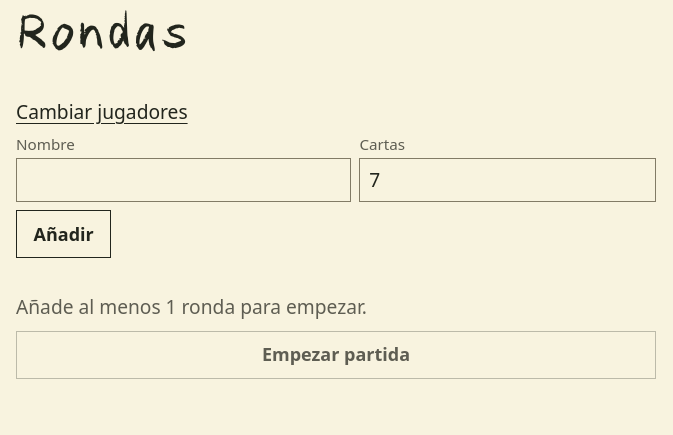
Test: RoundSetup › rejects blank, zero-card, and non-integer rounds before adding a valid round
Submit the form, box x1=16 y1=134 x2=656 y2=258
Type "Nueva ronda" into the field labelled "Nombre" at (184, 180), box x1=16 y1=158 x2=351 y2=202
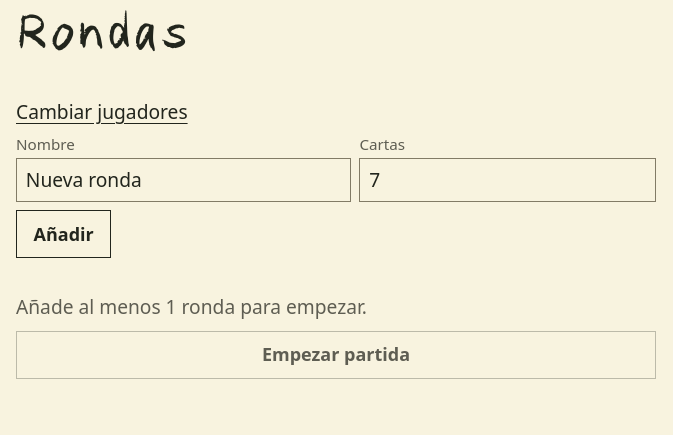
Replace the text in the number field labelled "Cartas" with "0" at (508, 180), box x1=359 y1=158 x2=656 y2=202
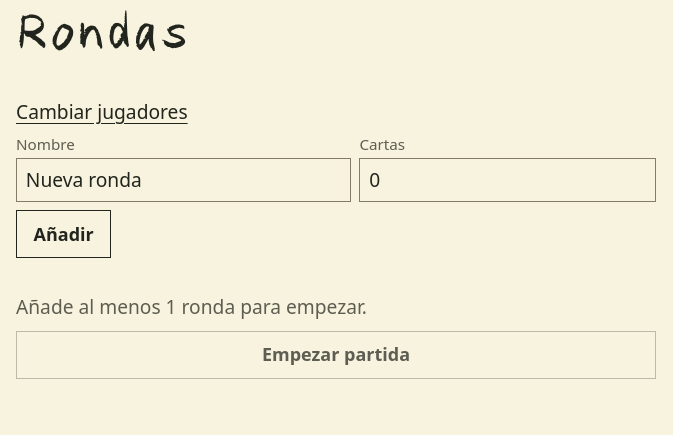
Submit the form, box x1=16 y1=134 x2=656 y2=258
Replace the text in the number field labelled "Cartas" with "2.5" at (508, 180), box x1=359 y1=158 x2=656 y2=202
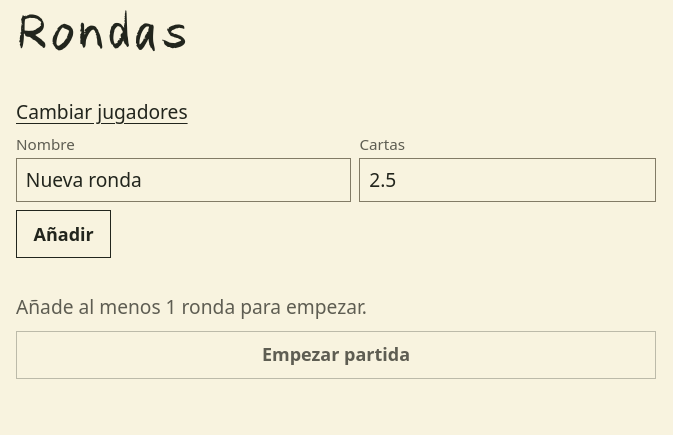
Submit the form, box x1=16 y1=134 x2=656 y2=258
Replace the text in the number field labelled "Cartas" with "8" at (508, 180), box x1=359 y1=158 x2=656 y2=202
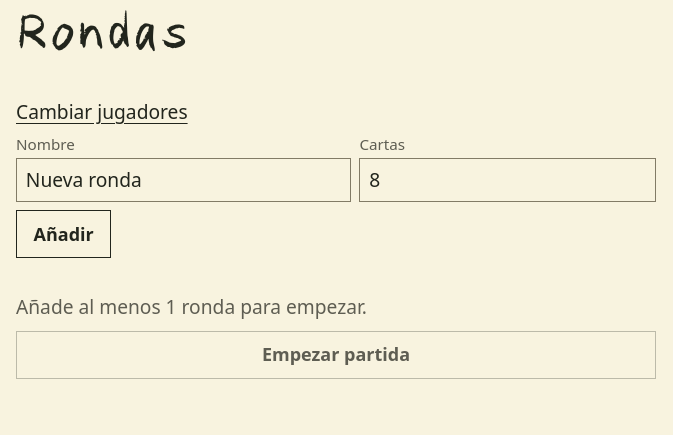
Submit the form, box x1=16 y1=134 x2=656 y2=258
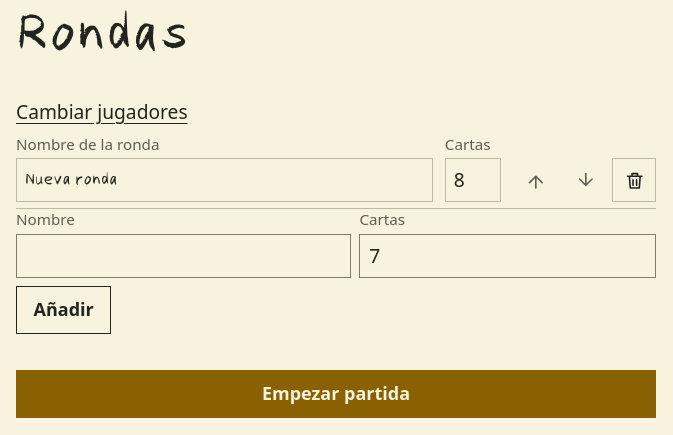
Check: the field labelled "Nombre" is empty, box x1=16 y1=234 x2=351 y2=278
Check: the 2nd number field labelled "Cartas" holds "7", box x1=359 y1=234 x2=656 y2=278
